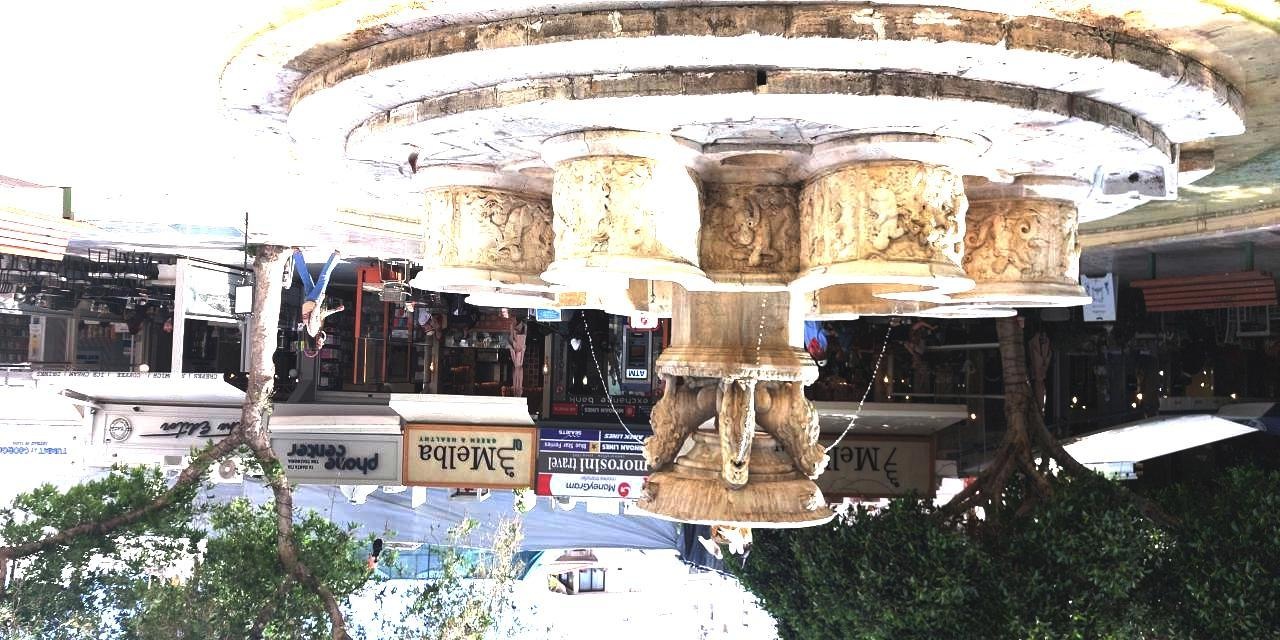Liontaria: (399, 131, 1095, 553)
